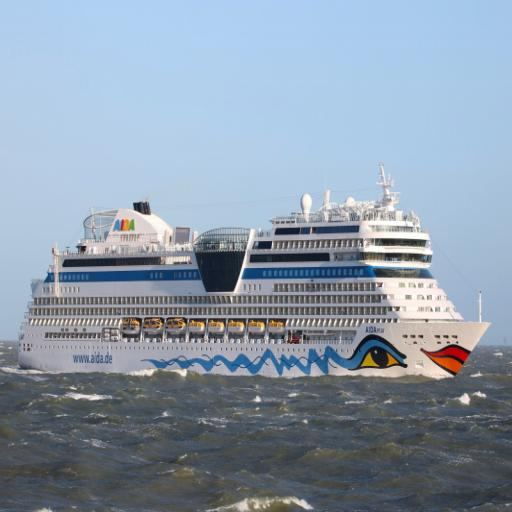cruises: (17, 163, 494, 385)
